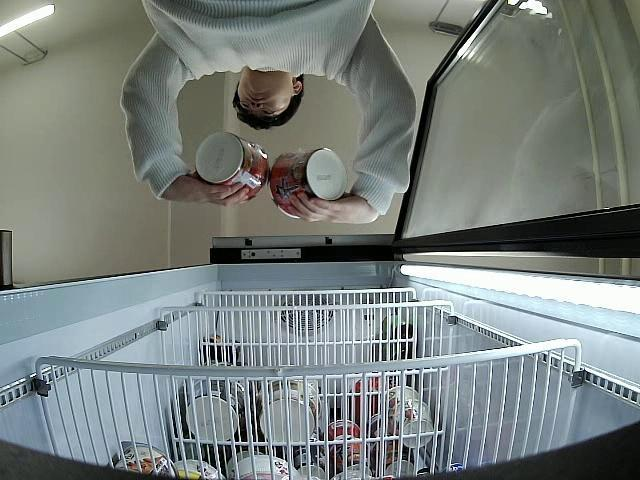01_ShinRamen_L: (192, 132, 268, 202), (270, 150, 346, 218)
